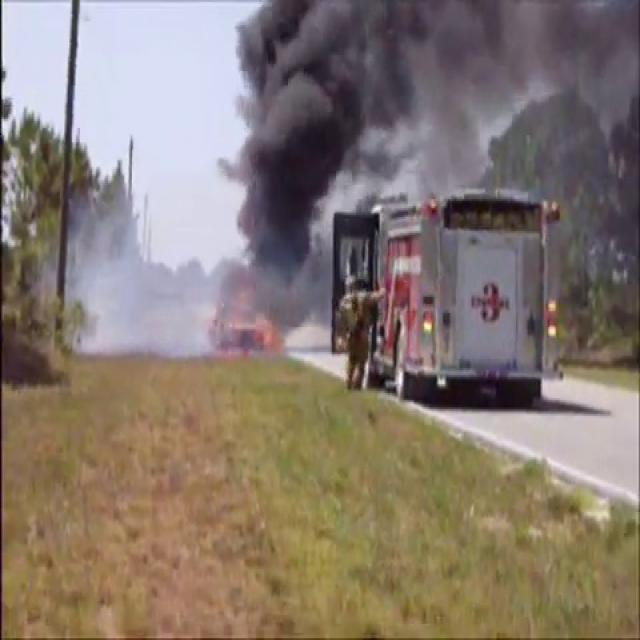Smoke: (205, 0, 639, 306), (40, 150, 203, 360)
